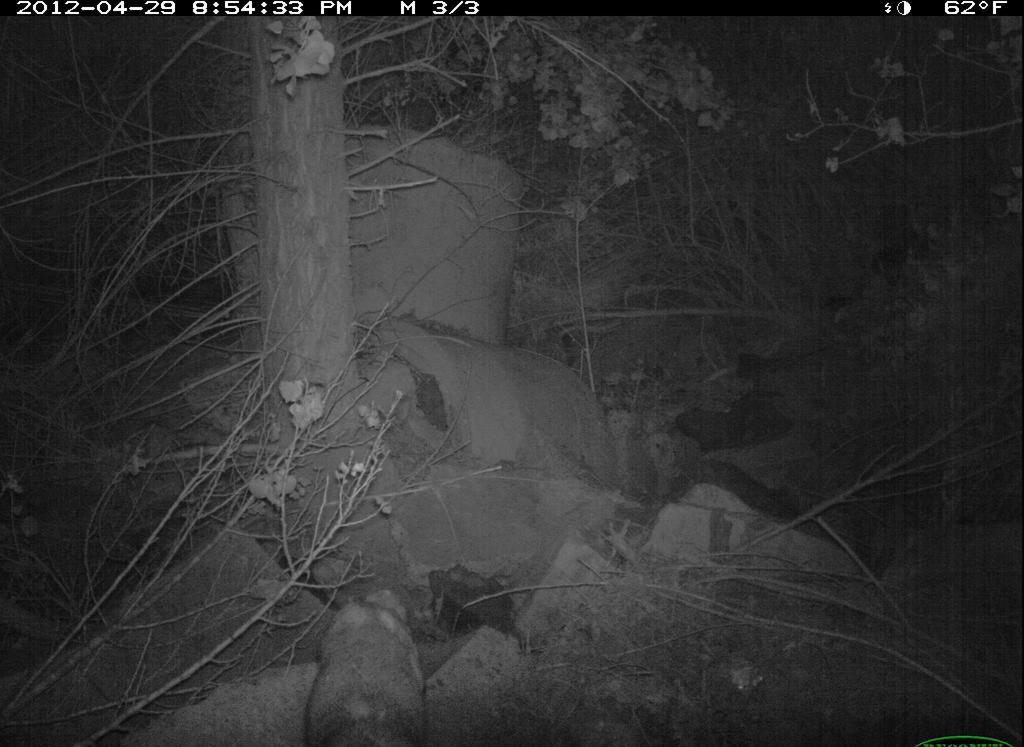coyote: (304, 575, 451, 744)
